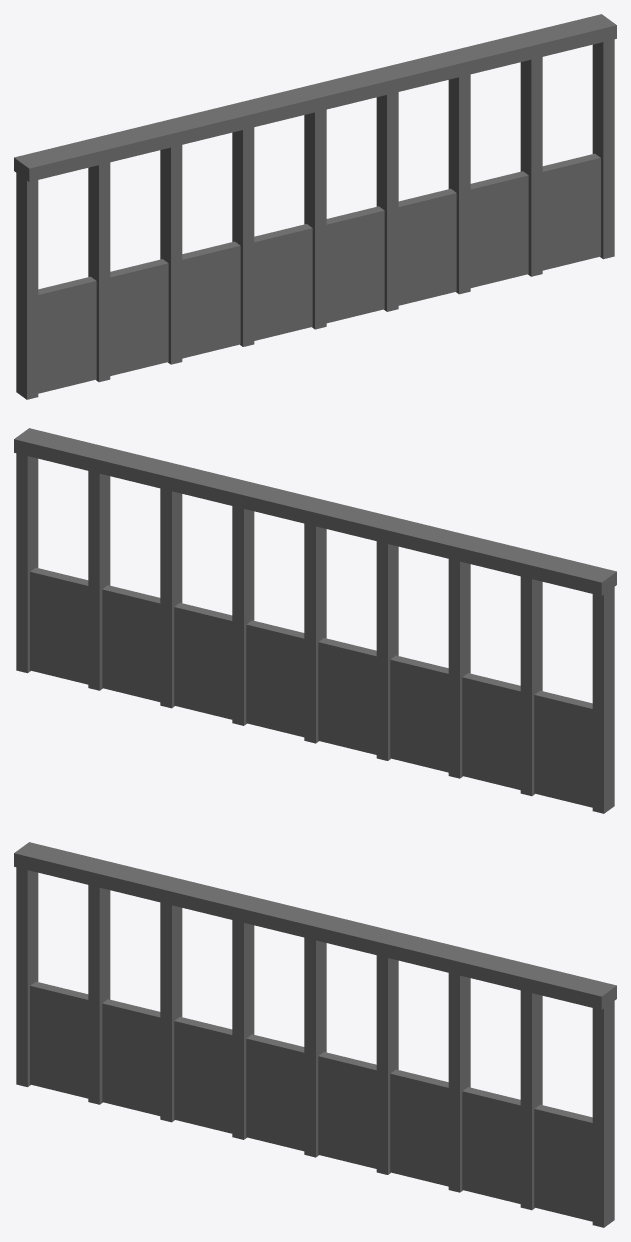
The model's file is Partitions_051.glb.
The picture shows the model from 3 angles, top to bottom: view 1: azimuth 30°, elevation 25°; view 2: azimuth 150°, elevation 25°; view 3: azimuth 330°, elevation 25°; orthographic projection.
Parts seen in each view (by area): view 1: Partitions_051; view 2: Partitions_051; view 3: Partitions_051.
Part boxes in pixels (<box>): Partitions_051: <box>14,14,616,399</box>; Partitions_051: <box>14,428,616,813</box>; Partitions_051: <box>14,842,616,1227</box>.
Bounding box in the file's own units: 2 × 0.7574 × 0.0898.
1 material, 1 textured.
